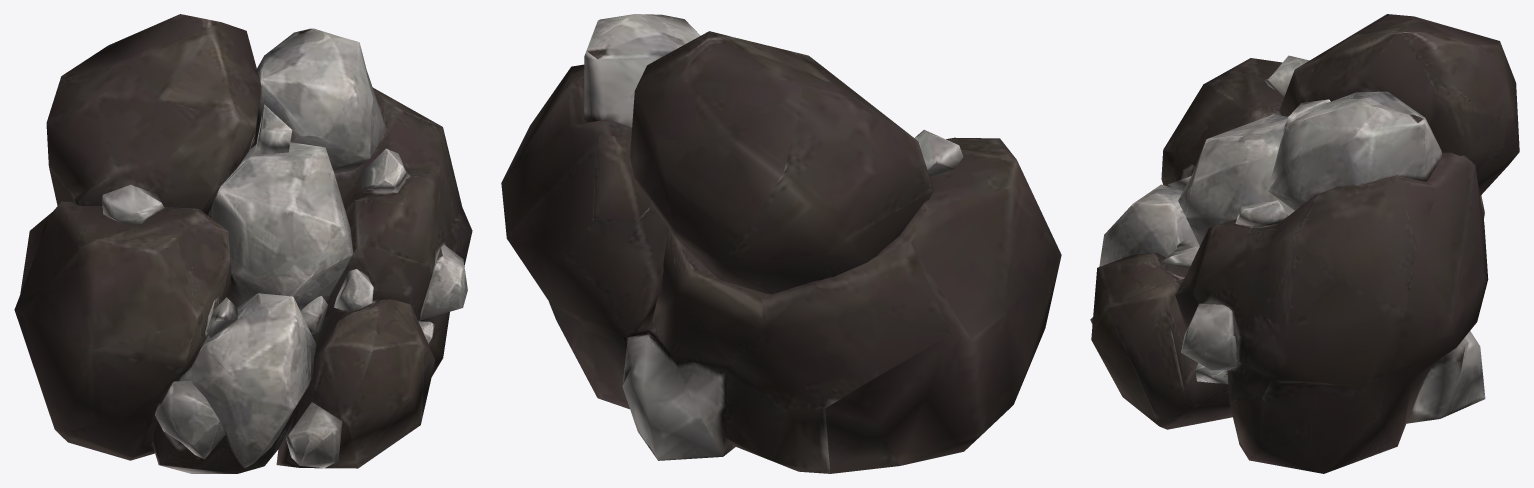
File: filon_pierre.glb
3 renders of one model, left to right at view 1: azimuth 30°, elevation 25°; view 2: azimuth 150°, elevation 25°; view 3: azimuth 270°, elevation 25°, orthographic. The views are drawn at different scales.
Bounding box in the file's own units: 0.9648 × 0.7627 × 0.8194.
1 material, 1 textured.
